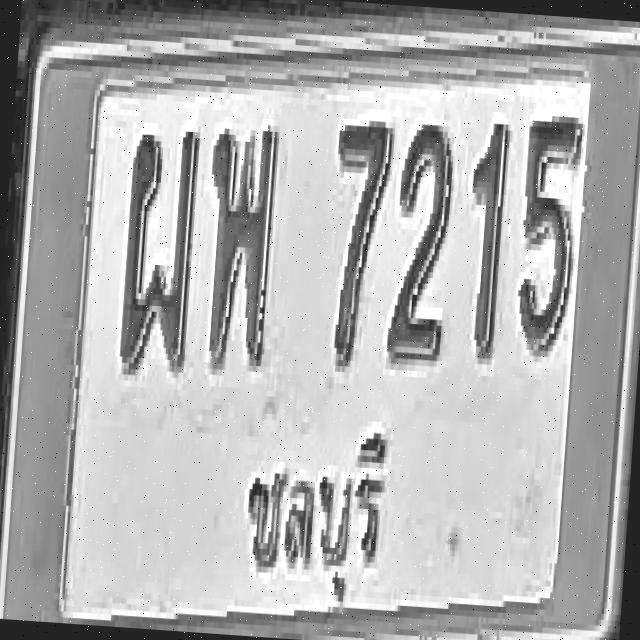1: (460, 116, 510, 358)
2: (384, 117, 456, 367)
37PhorPhueng: (118, 122, 200, 372)
39PhorPan: (198, 119, 280, 368)
5: (514, 110, 582, 354)
7: (322, 112, 394, 368)
Chonburi: (228, 401, 400, 610)
